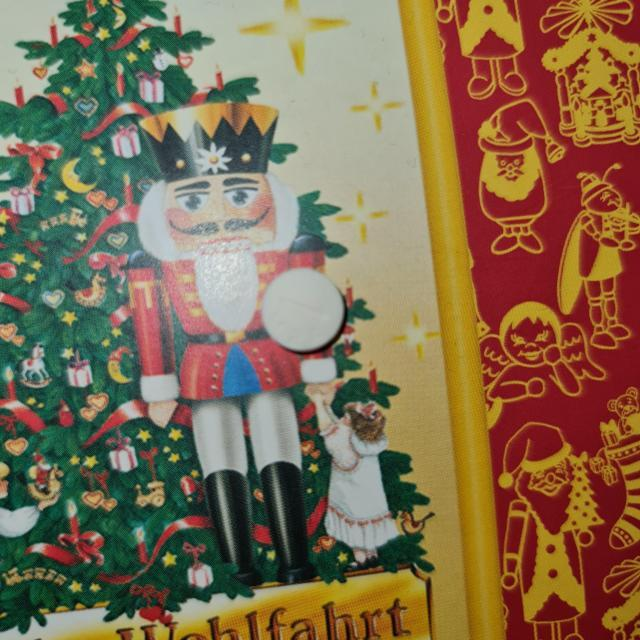pill: (260, 266, 350, 356)
